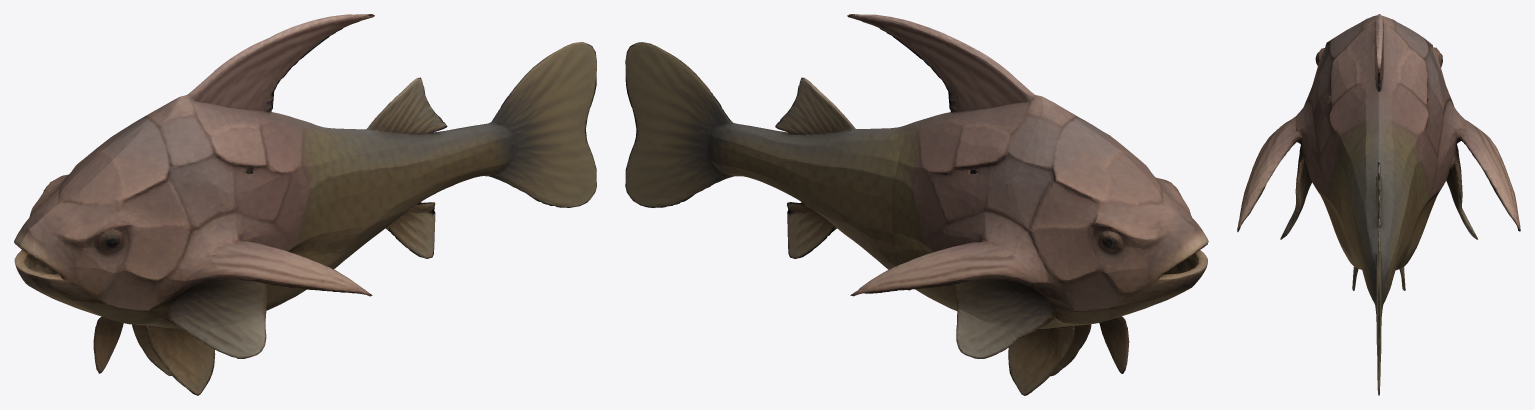
The picture shows the model from 3 angles, left to right: view 1: azimuth 30°, elevation 25°; view 2: azimuth 150°, elevation 25°; view 3: azimuth 270°, elevation 25°; orthographic projection. The views are drawn at different scales.
Visible parts, largest first — view 1: world; view 2: world; view 3: world.
Boxes of the visible parts, x1,y1,x2,y2 form: world: [14, 14, 596, 395]; world: [625, 14, 1208, 395]; world: [1237, 14, 1520, 395].
Size of the model in its own units: 1 by 0.5524 by 0.4496.
1 material, 1 textured.
